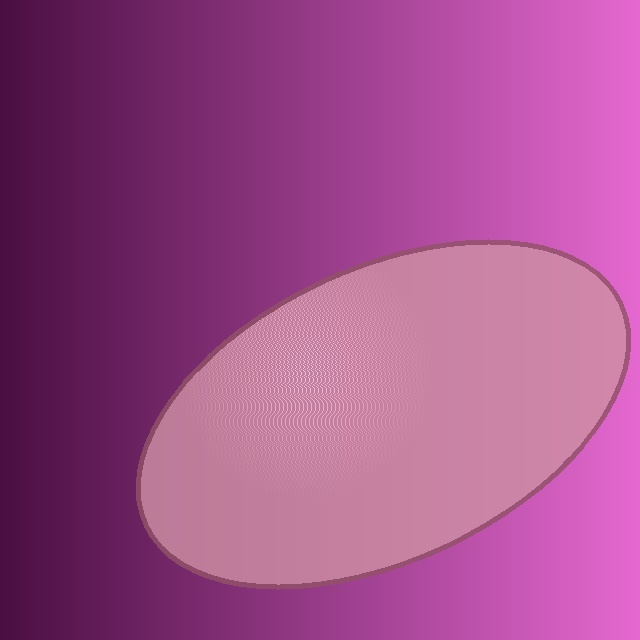lens: (138, 242, 628, 586)
